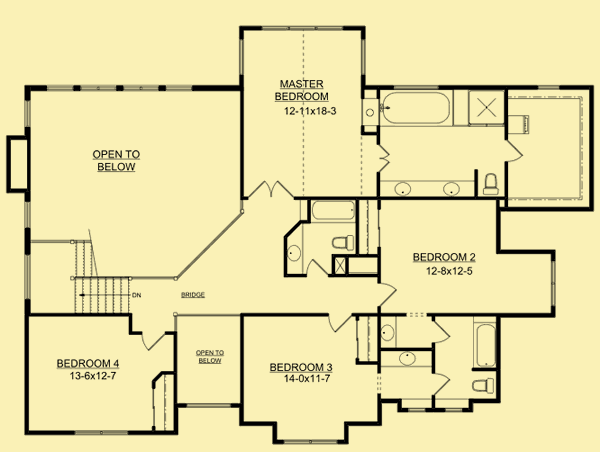door: (247, 180, 296, 203), (375, 280, 401, 309), (502, 138, 527, 164), (428, 319, 454, 344), (327, 312, 355, 333), (374, 144, 392, 173), (430, 372, 452, 395), (140, 330, 164, 350)
large_sink: (327, 232, 355, 252), (481, 171, 502, 196), (469, 376, 496, 394)
small_sink: (381, 180, 477, 199), (287, 227, 307, 274), (380, 350, 433, 367), (380, 316, 400, 351)
stairs: (73, 242, 133, 313)
tub: (380, 89, 453, 127), (472, 322, 498, 369), (310, 199, 355, 224)
window: (121, 80, 192, 93), (44, 82, 118, 93), (23, 252, 32, 303), (550, 257, 559, 308), (183, 401, 231, 408), (24, 99, 33, 127), (24, 202, 31, 228)
